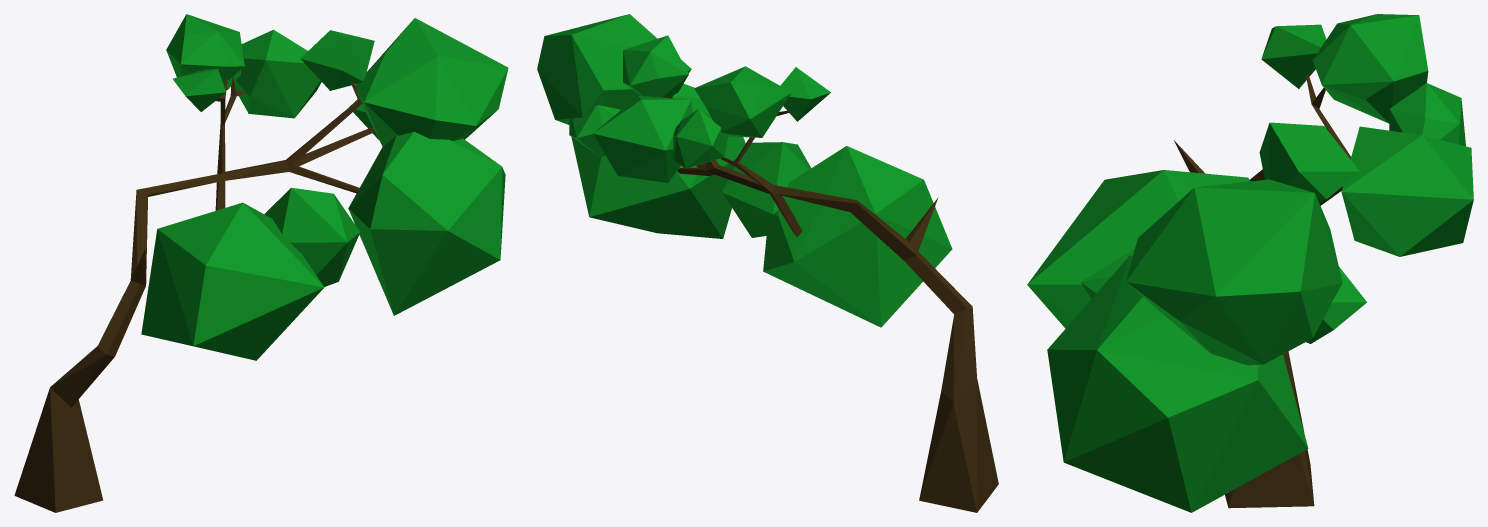
The model's file is tree2.fbx.
3 renders of one model, left to right at view 1: azimuth 30°, elevation 25°; view 2: azimuth 150°, elevation 25°; view 3: azimuth 270°, elevation 25°, orthographic. The views are drawn at different scales.
Parts seen in each view (by area): view 1: leaves, stem; view 2: leaves, stem; view 3: leaves, stem.
Boxes of the visible parts, box(x1,y1,x2,y2) form: leaves: box(141, 14, 508, 360); stem: box(14, 77, 374, 512); leaves: box(537, 14, 952, 327); stem: box(668, 96, 998, 512); leaves: box(1027, 14, 1473, 512); stem: box(1174, 74, 1350, 508).
Bounding box in the file's own units: 1733 × 1492 × 975.
